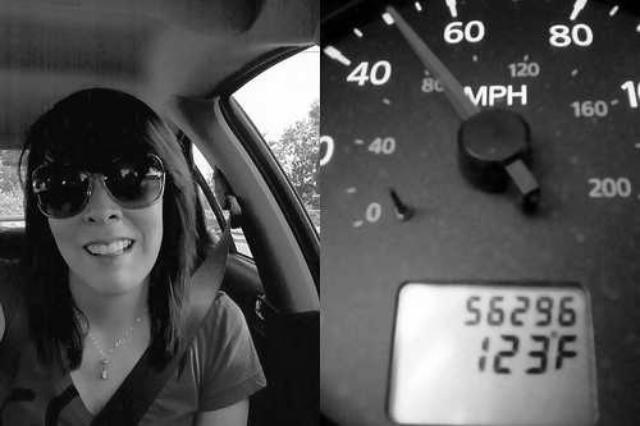Seatbelt: (86, 180, 240, 426)
